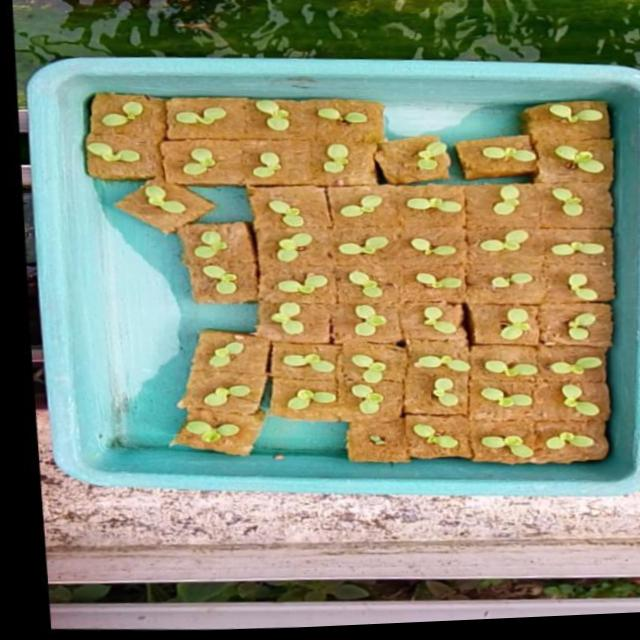Baby: (147, 180, 205, 221), (541, 180, 604, 214), (96, 95, 160, 126), (114, 129, 168, 158), (266, 231, 320, 259), (292, 348, 346, 375), (283, 265, 333, 294), (428, 303, 473, 334), (579, 312, 621, 344), (489, 272, 550, 293), (173, 105, 233, 125), (494, 435, 546, 458), (198, 222, 233, 256), (193, 418, 248, 439), (576, 384, 612, 416), (424, 423, 470, 448), (280, 299, 314, 332), (559, 355, 618, 374), (488, 227, 538, 249), (417, 234, 468, 255), (512, 307, 544, 340), (276, 195, 311, 225), (213, 381, 260, 403), (365, 302, 397, 334), (263, 98, 296, 129), (362, 352, 397, 381), (362, 380, 394, 411), (356, 268, 391, 296), (425, 354, 482, 371), (496, 359, 550, 376), (218, 338, 253, 364), (297, 391, 344, 410), (557, 431, 606, 449), (347, 234, 396, 252), (193, 146, 225, 173), (577, 272, 608, 299), (502, 183, 530, 212), (424, 270, 470, 287), (211, 270, 245, 293), (561, 239, 615, 253), (444, 377, 470, 406), (331, 141, 357, 170), (261, 149, 288, 175), (357, 192, 388, 214), (503, 391, 543, 406)
